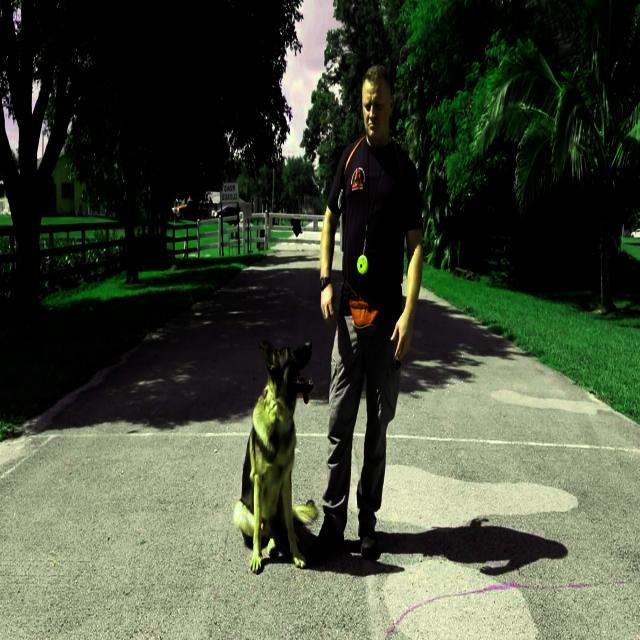Unleashed_Dog: (233, 318, 388, 574)
